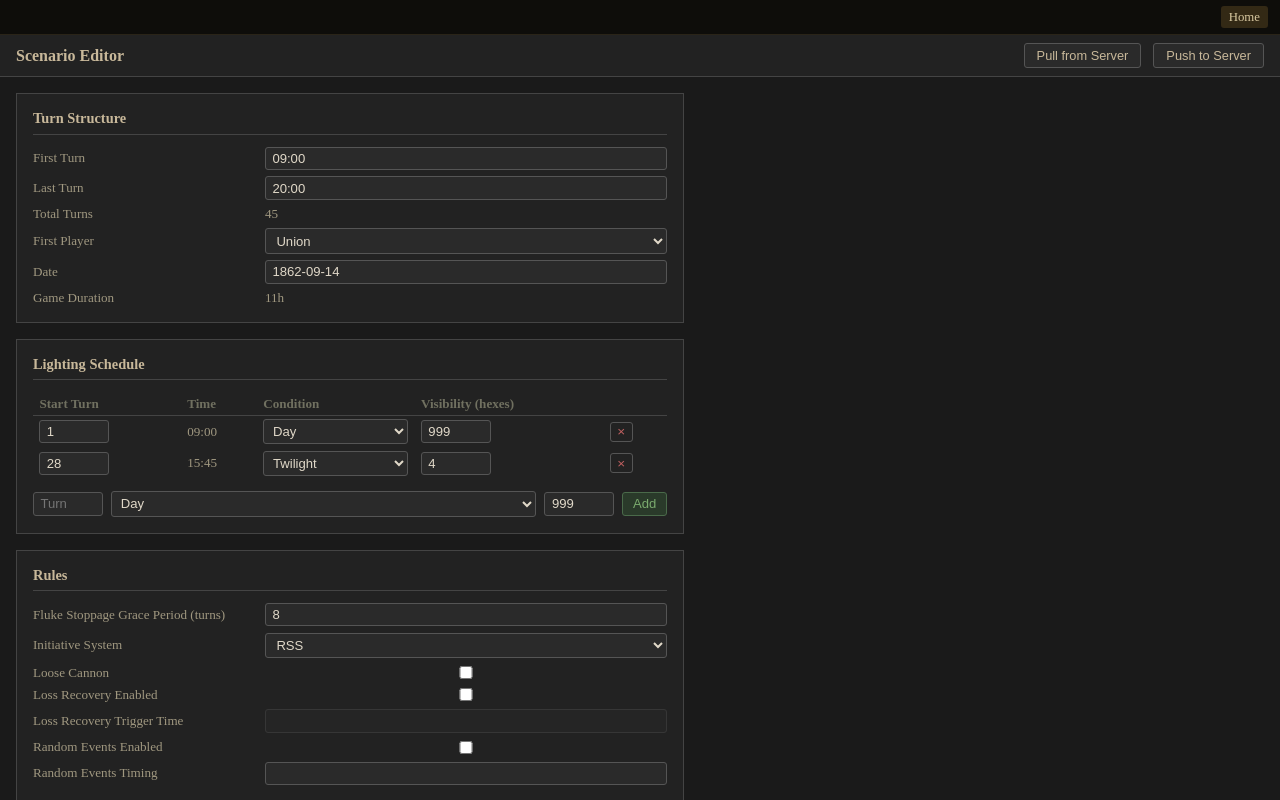
it: ScenarioEditorView › Lighting schedule › deletes a lighting row on × click
The width and height of the screenshot is (1280, 800).
What coordinates should you click on to do the following:
click the button with class "delete-btn" in the row of "09:00"
I would click on:
 (621, 432)
Its box is x1=610 y1=422 x2=633 y2=442.
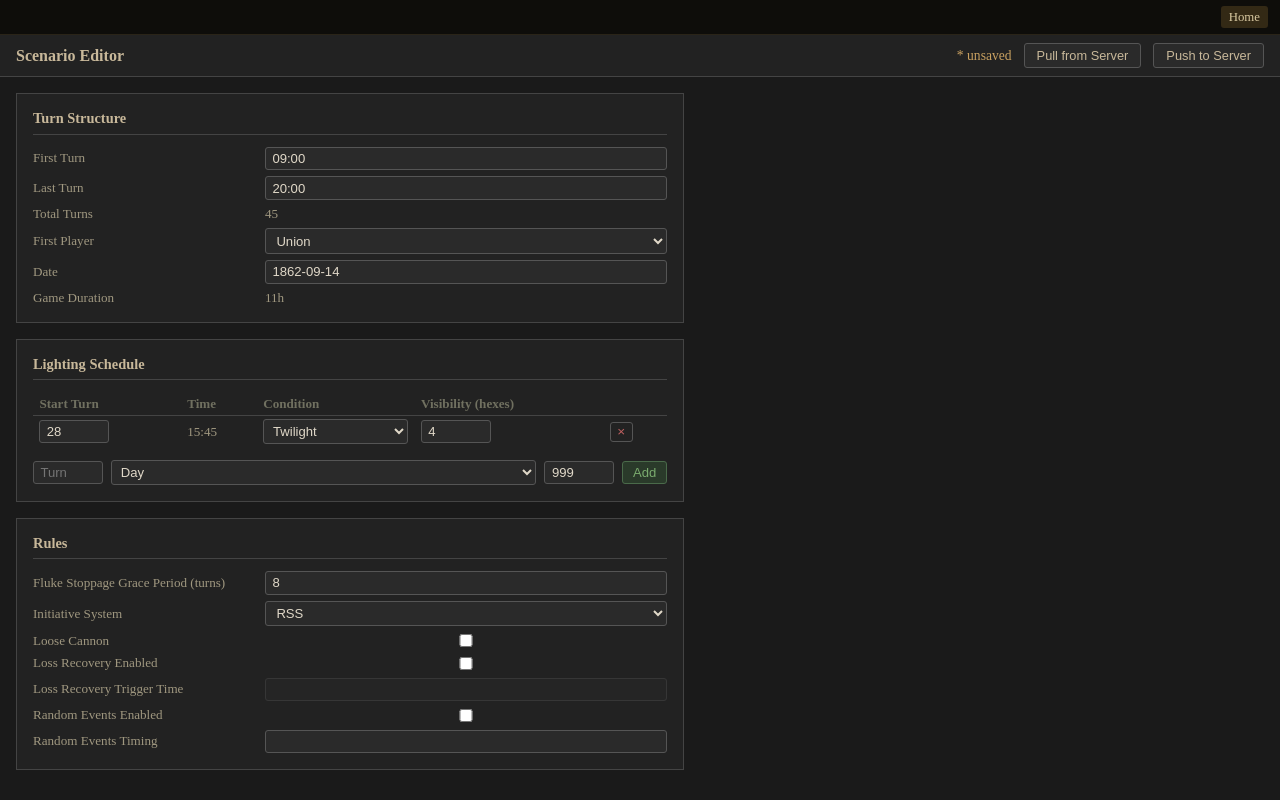
Check: the number of rows with class "lighting-row" is 1, box x1=33 y1=415 x2=667 y2=448
